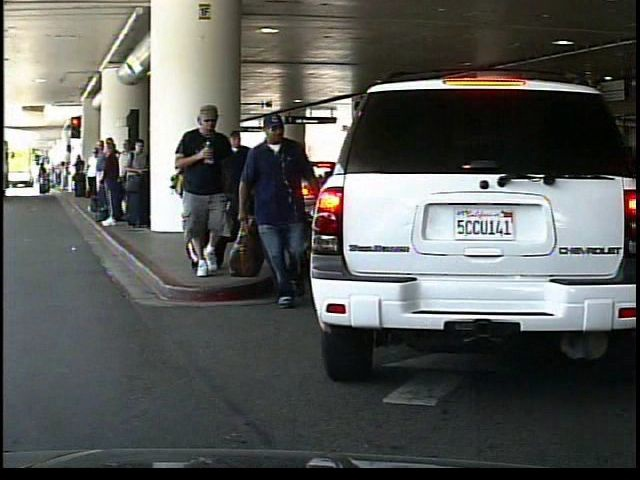person: (238, 104, 314, 309), (175, 105, 238, 279), (223, 136, 262, 245)
